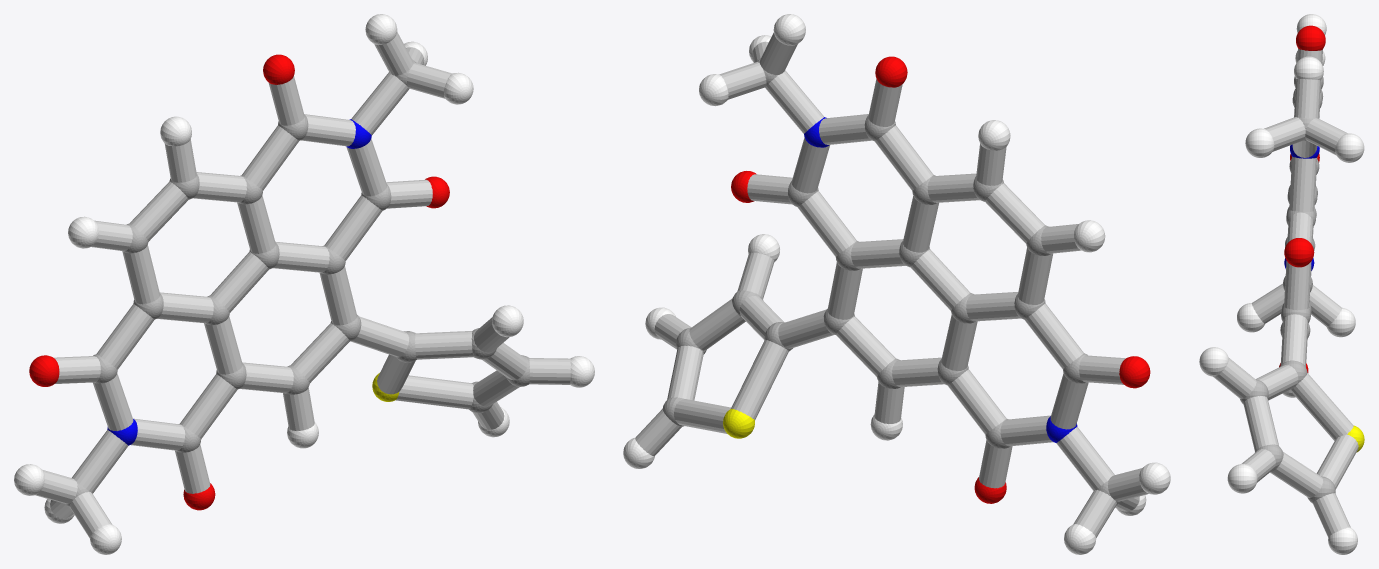
Rendered from Dimethyl_Naphthalene_Dicarboximide_Phi_0_Theta_50_Thiophene.glb.
The picture shows the model from 3 angles, left to right: view 1: azimuth 30°, elevation 25°; view 2: azimuth 150°, elevation 25°; view 3: azimuth 270°, elevation 25°; orthographic projection. The views are drawn at different scales.
Parts seen in each view (by area): view 1: grp14119, grp7241, grp1, grp12309, grp11585; view 2: grp14119, grp7241, grp1, grp12309, grp13757, grp11585; view 3: grp14119, grp7241, grp1, grp12309, grp13757.
Boxes of the visible parts, left/top/right/bottom form: grp14119: left=35, top=32, right=570, bottom=538; grp7241: left=14, top=14, right=594, bottom=554; grp1: left=65, top=59, right=529, bottom=507; grp12309: left=29, top=54, right=449, bottom=510; grp11585: left=107, top=119, right=371, bottom=445; grp14119: left=635, top=32, right=1148, bottom=537; grp7241: left=623, top=14, right=1170, bottom=554; grp1: left=662, top=58, right=1121, bottom=504; grp12309: left=731, top=56, right=1150, bottom=503; grp13757: left=723, top=408, right=754, bottom=438; grp11585: left=804, top=117, right=1077, bottom=442; grp14119: left=1213, top=48, right=1358, bottom=537; grp7241: left=1199, top=14, right=1364, bottom=554; grp1: left=1240, top=76, right=1335, bottom=503; grp12309: left=1279, top=25, right=1325, bottom=372; grp13757: left=1347, top=425, right=1364, bottom=452.
Size of the model in its own units: 11.84 by 9.65 by 3.31.
